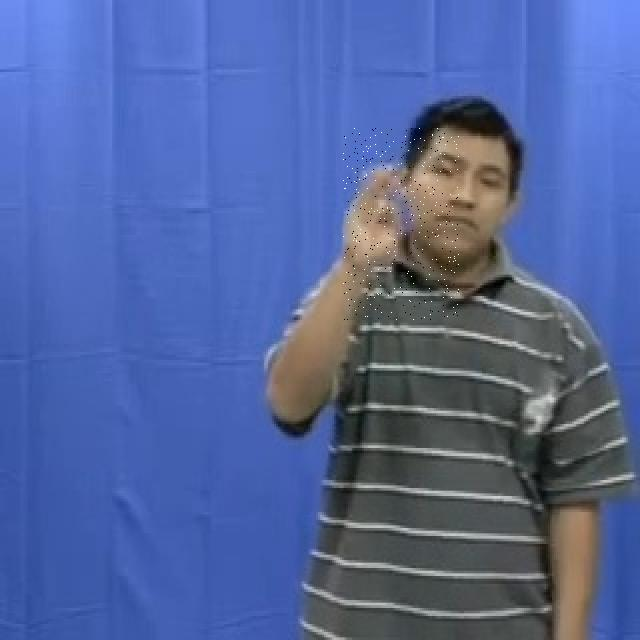coke: (344, 128, 459, 320)
